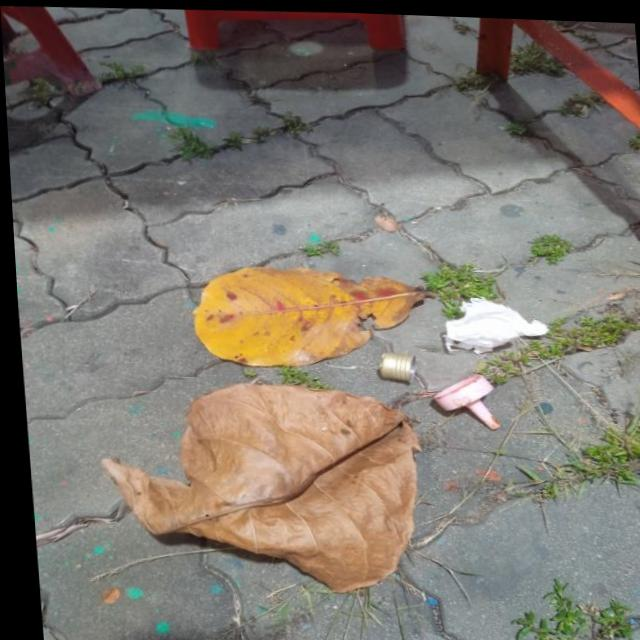food: (421, 280, 574, 366)
leaf: (422, 369, 524, 439), (368, 345, 417, 390)
wood: (97, 371, 424, 596), (176, 249, 460, 378)
